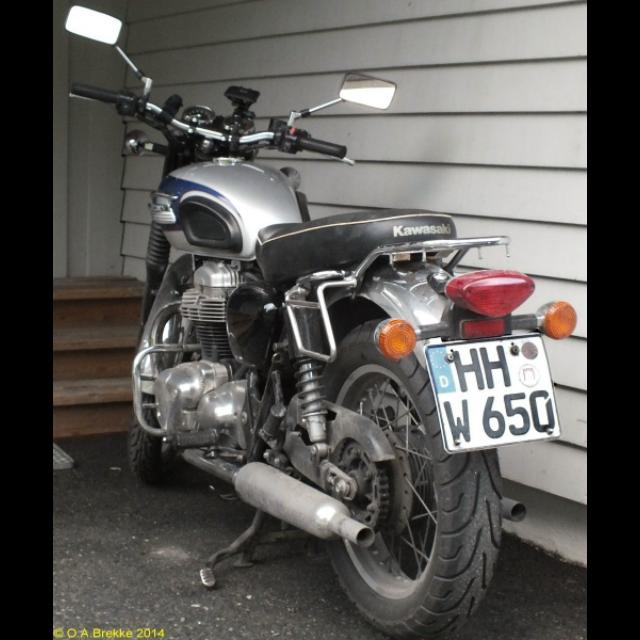d_license_plate: (425, 334, 563, 454)
